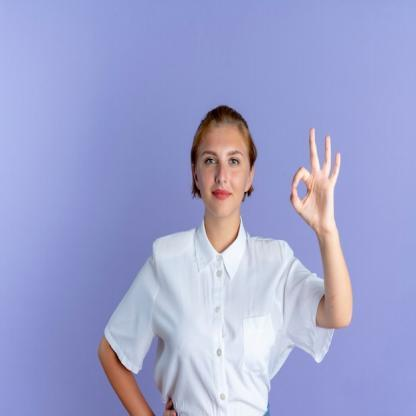ok: (288, 123, 342, 233)
